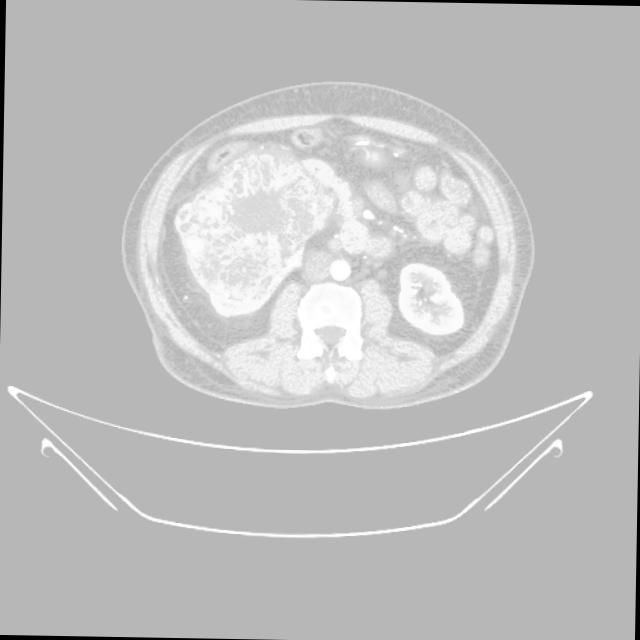TUMOR: (175, 142, 540, 358)
